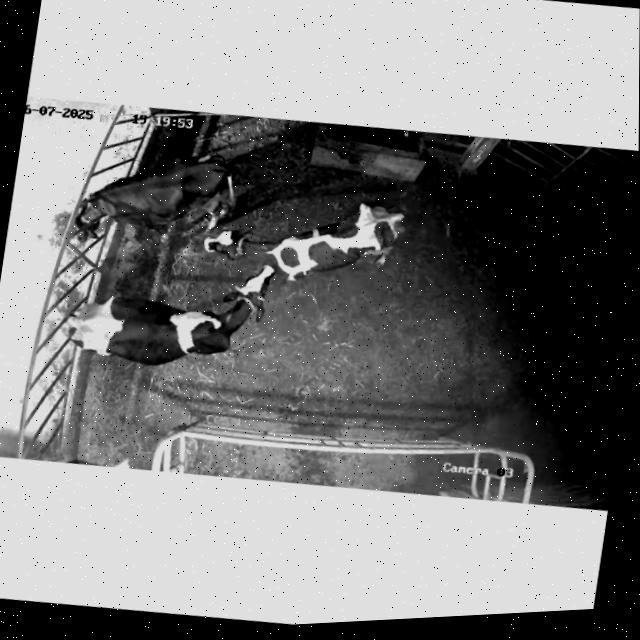stand: (70, 264, 275, 365), (204, 202, 404, 280)
